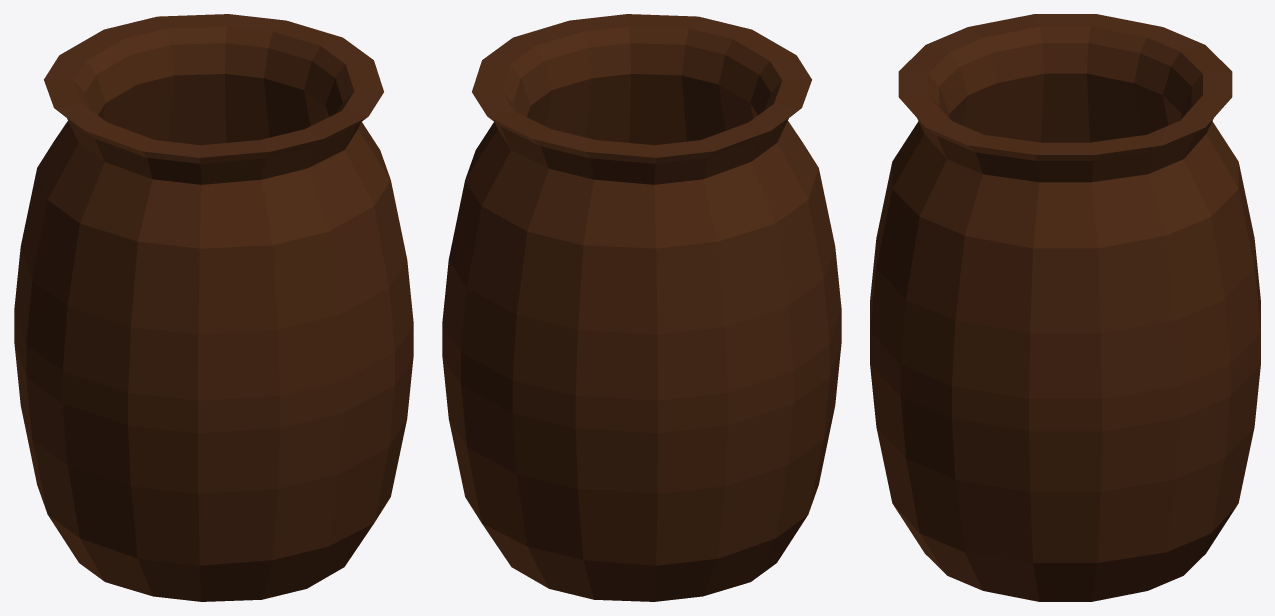
The model's file is ClayPotTW.fbx.
The picture shows the model from 3 angles, left to right: view 1: azimuth 30°, elevation 25°; view 2: azimuth 150°, elevation 25°; view 3: azimuth 270°, elevation 25°; orthographic projection.
Visible parts, largest first — view 1: Cube; view 2: Cube; view 3: Cube.
Boxes of the visible parts, x1=… form: Cube: x1=14, y1=14, x2=413, y2=601; Cube: x1=442, y1=14, x2=841, y2=601; Cube: x1=870, y1=14, x2=1260, y2=601.
Bounding box in the file's own units: 294 × 380 × 294.
